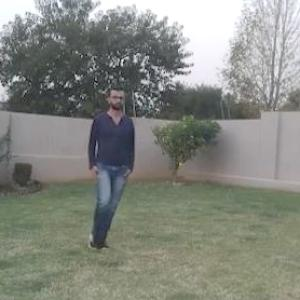follow: (87, 83, 133, 239)
